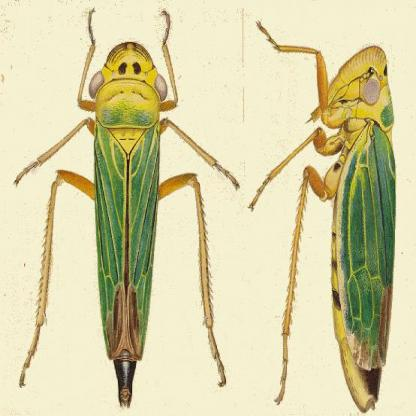Green-Leafhopper: (7, 0, 241, 410), (244, 8, 402, 416)
